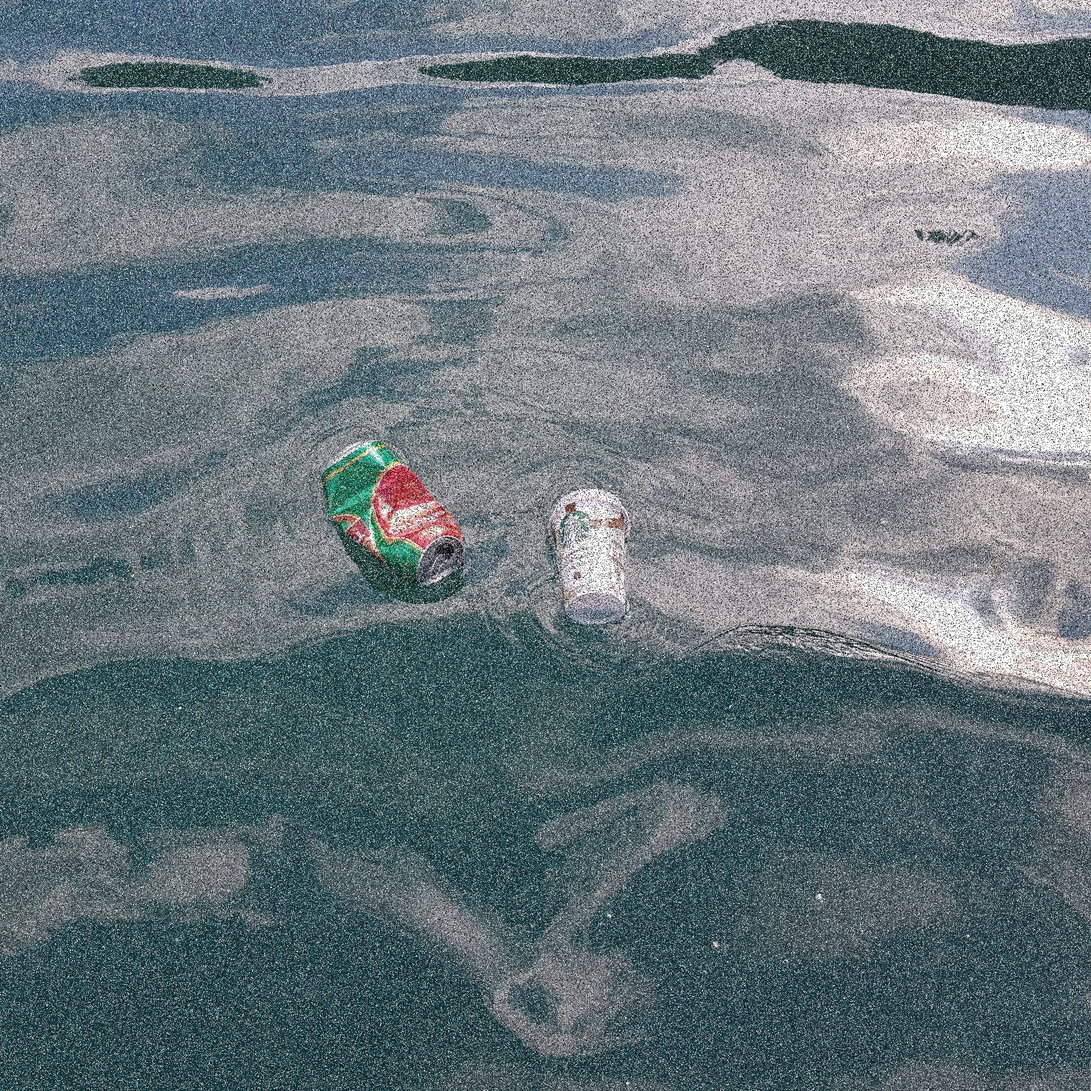sampah_terapung: (321, 440, 465, 587), (548, 489, 631, 625)
